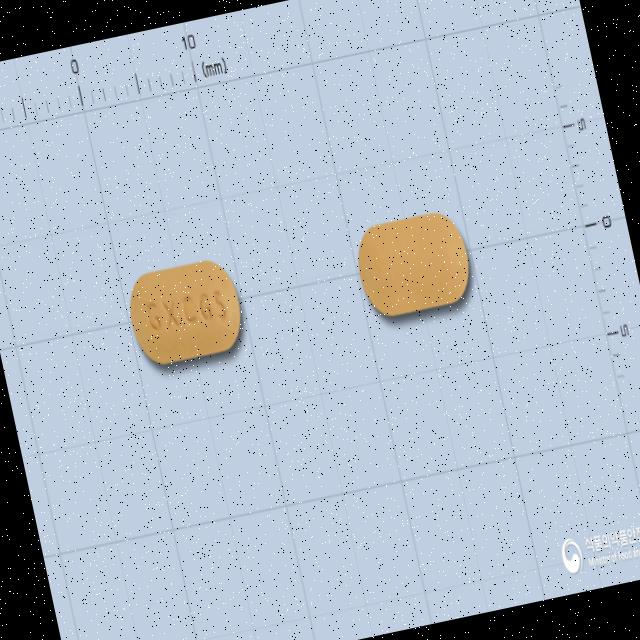Zeffix Tab: (120, 254, 250, 370), (350, 205, 478, 321)
